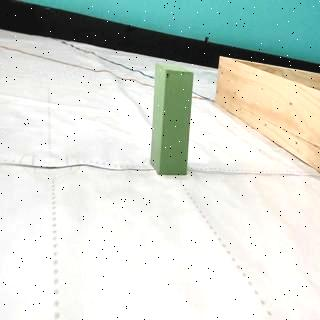greenbox: (152, 62, 192, 175)
